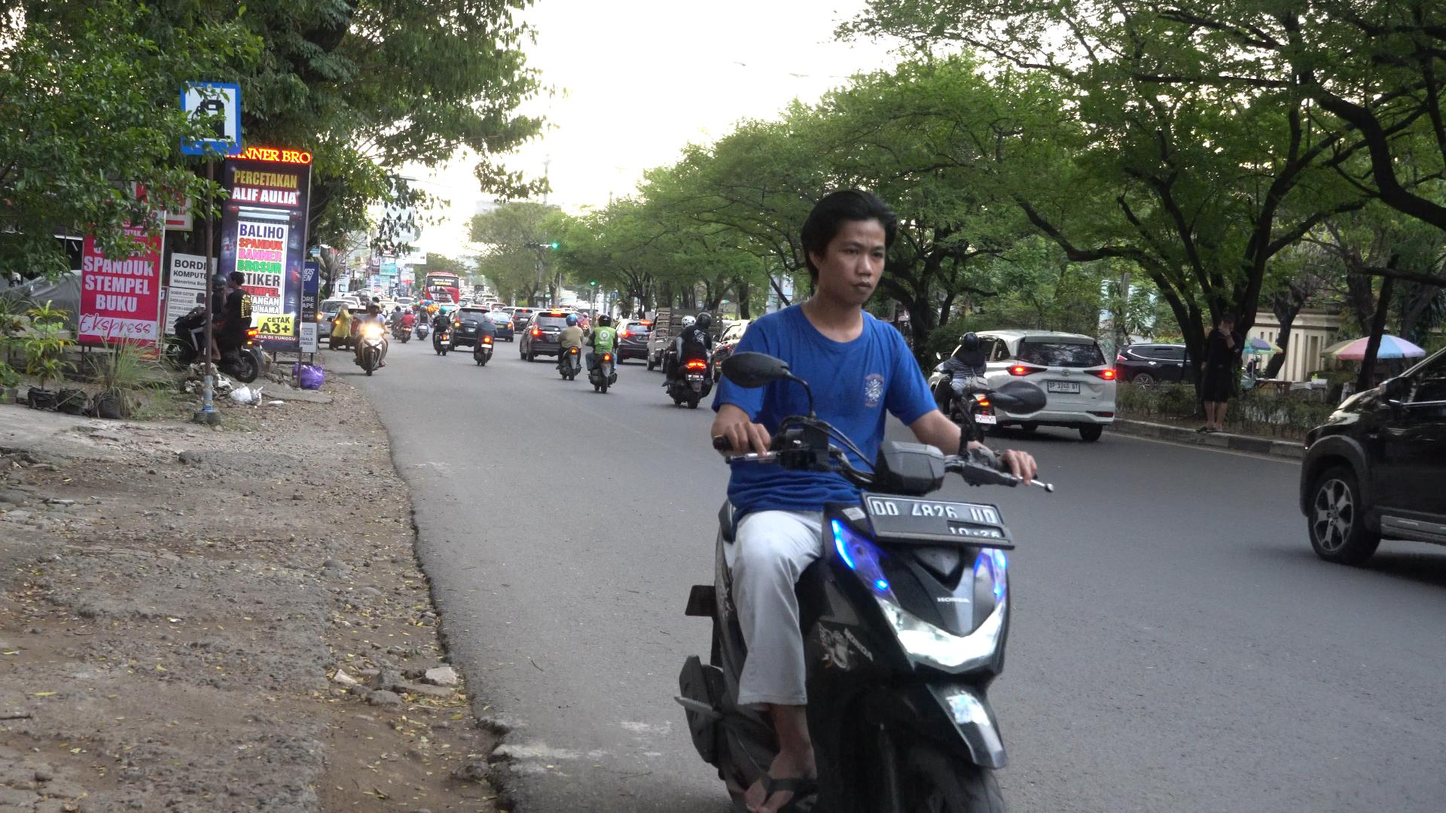number-plate: (861, 488, 1017, 551)
